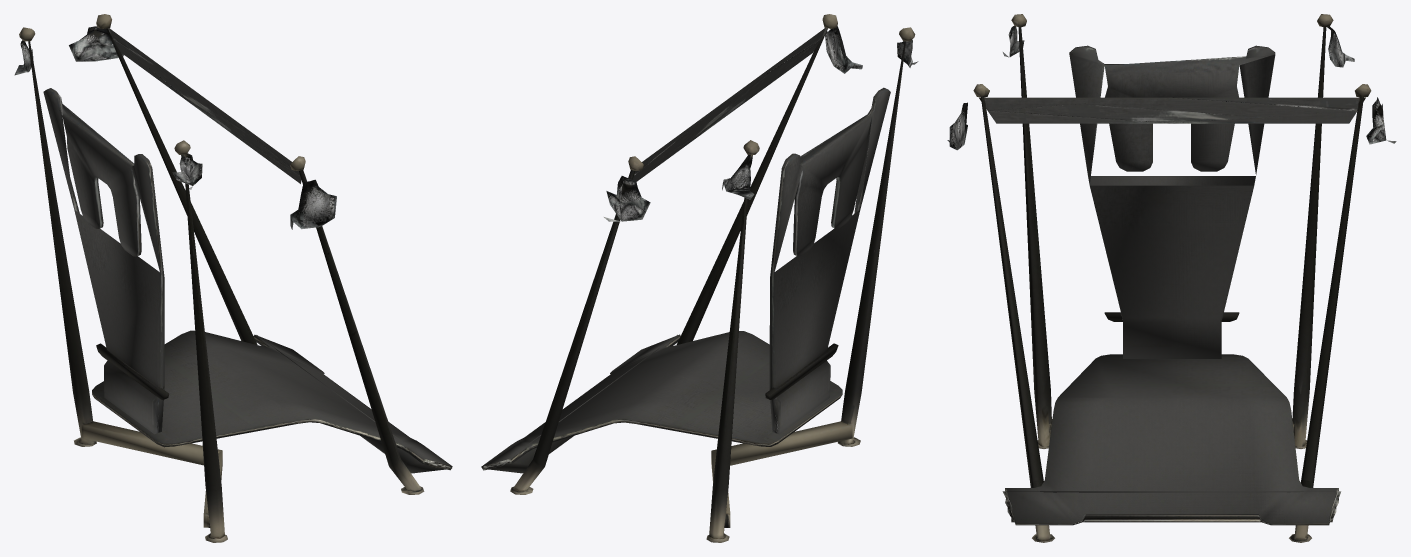
The model's file is throne+chair+3d+model.glb.
3 views of the same model, side by side, from view 1: azimuth 30°, elevation 25°; view 2: azimuth 150°, elevation 25°; view 3: azimuth 270°, elevation 25° (orthographic). The views are drawn at different scales.
Visible parts, largest first — view 1: tripo_node_c2200bbe-5fde-42e9-8aca-062dc6cd94d8; view 2: tripo_node_c2200bbe-5fde-42e9-8aca-062dc6cd94d8; view 3: tripo_node_c2200bbe-5fde-42e9-8aca-062dc6cd94d8.
Boxes of the visible parts, x1,y1,x2,y2 form: tripo_node_c2200bbe-5fde-42e9-8aca-062dc6cd94d8: [14, 14, 452, 542]; tripo_node_c2200bbe-5fde-42e9-8aca-062dc6cd94d8: [481, 14, 918, 542]; tripo_node_c2200bbe-5fde-42e9-8aca-062dc6cd94d8: [947, 14, 1396, 542].
Size of the model in its own units: 0.6973 by 0.998 by 0.998.
Materials: 1 (1 with a texture image).
